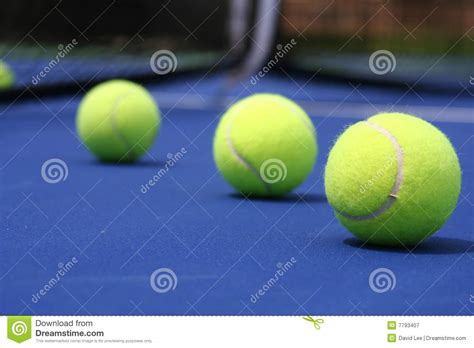tennis_ball: (324, 112, 462, 246), (211, 91, 319, 199), (76, 78, 161, 164)
